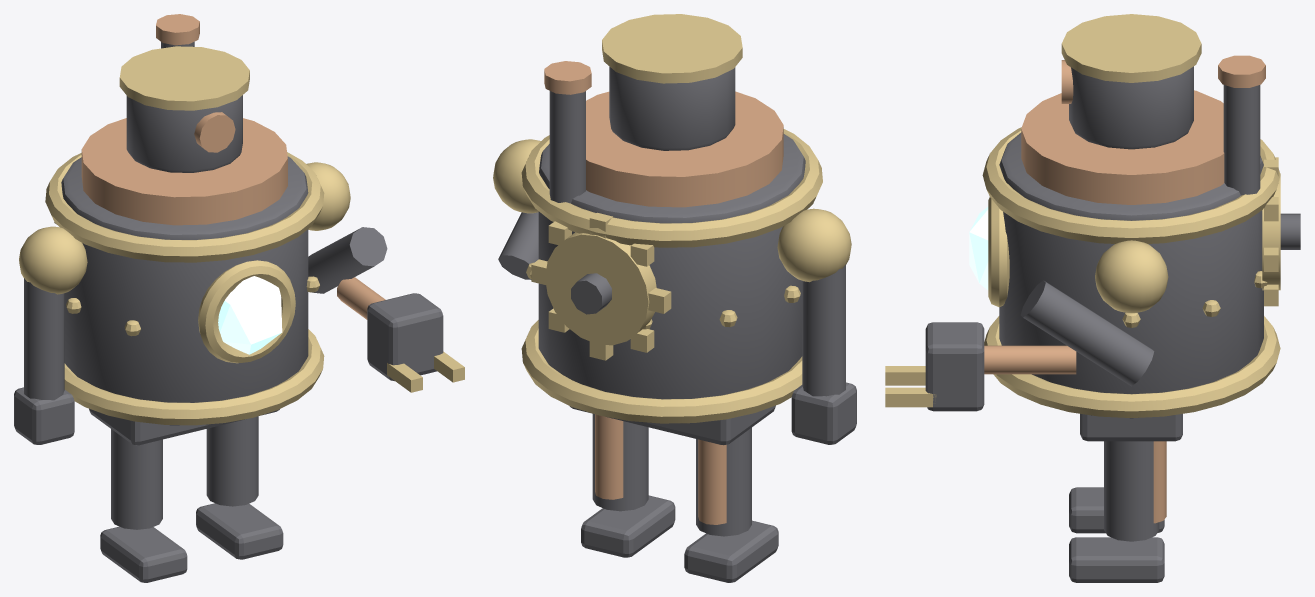
Rendered from EnemyAutomato.fbx.
The picture shows the model from 3 angles, left to right: view 1: azimuth 30°, elevation 25°; view 2: azimuth 150°, elevation 25°; view 3: azimuth 270°, elevation 25°; orthographic projection. The views are drawn at different scales.
Visible parts, largest first — view 1: Corpo, Parte_Cabeca, Arma, Parte_BracoEsq, Parte_PernaEsq, Parte_PernaDir, Parte_Moldura, Cristal, Parte_Chamine; view 2: Corpo, Parte_Cabeca, Parte_Engrenagem, Parte_BracoEsq, Parte_PernaEsq, Parte_PernaDir, Parte_Chamine, Arma; view 3: Corpo, Arma, Parte_Cabeca, Parte_PernaDir, Parte_Chamine, Parte_Engrenagem, Parte_Moldura, Parte_PernaEsq, Cristal.
Part boxes in pixels (x1,y1,x2,y2): Corpo: (45, 118, 324, 445); Parte_Cabeca: (119, 46, 249, 172); Arma: (306, 162, 464, 392); Parte_BracoEsq: (14, 226, 87, 444); Parte_PernaEsq: (100, 429, 187, 582); Parte_PernaDir: (196, 416, 283, 559); Parte_Moldura: (198, 260, 295, 363); Cristal: (218, 276, 282, 354); Parte_Chamine: (156, 14, 199, 48); Corpo: (521, 91, 822, 445); Parte_Cabeca: (602, 14, 742, 150); Parte_Engrenagem: (531, 212, 671, 360); Parte_BracoEsq: (777, 208, 856, 444); Parte_PernaEsq: (684, 427, 778, 582); Parte_PernaDir: (581, 414, 675, 557); Parte_Chamine: (544, 61, 591, 203); Arma: (493, 139, 540, 279); Corpo: (982, 90, 1280, 441); Arma: (885, 240, 1168, 411); Parte_Cabeca: (1061, 14, 1201, 149); Parte_PernaDir: (1069, 441, 1166, 582); Parte_Chamine: (1218, 55, 1265, 195); Parte_Engrenagem: (1262, 157, 1300, 306); Parte_Moldura: (988, 197, 1009, 307); Parte_PernaEsq: (1069, 487, 1164, 533); Cristal: (969, 206, 988, 290).
Bounding box in the file's own units: 1.09 × 1.52 × 1.13.
